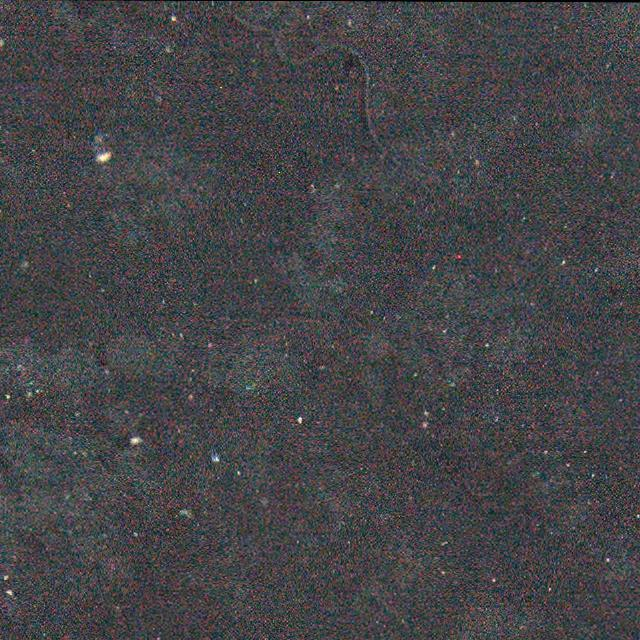eel: (236, 10, 385, 152)
